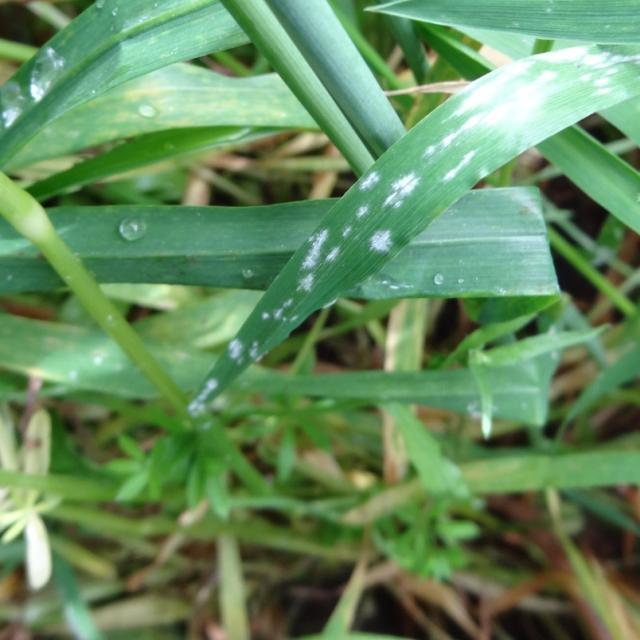Powdery Mildew: (279, 0, 630, 358), (1, 14, 74, 145)
